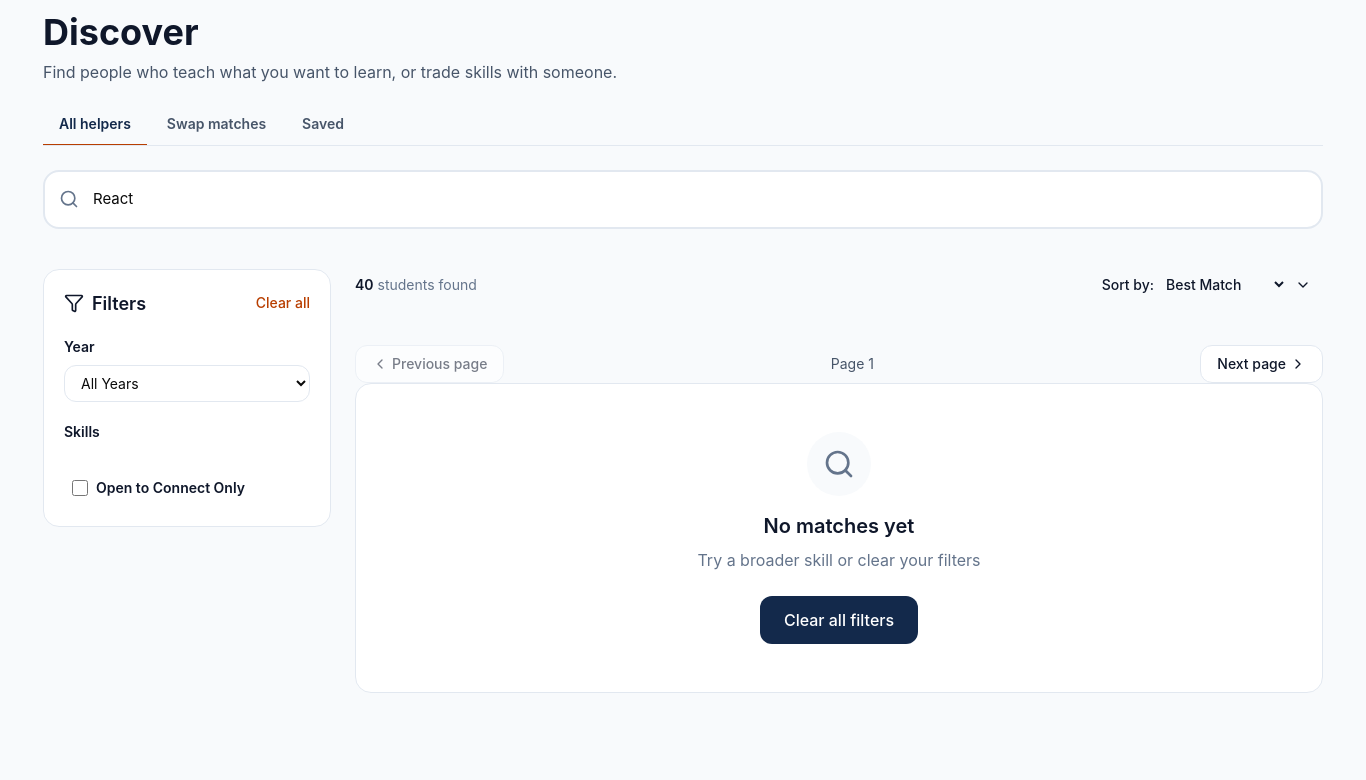
keeps the chosen page when the initial search debounce settles
Click the button "Next page". click: (1262, 364)
box: [1200,344,1323,382]
Wait 1000 ms
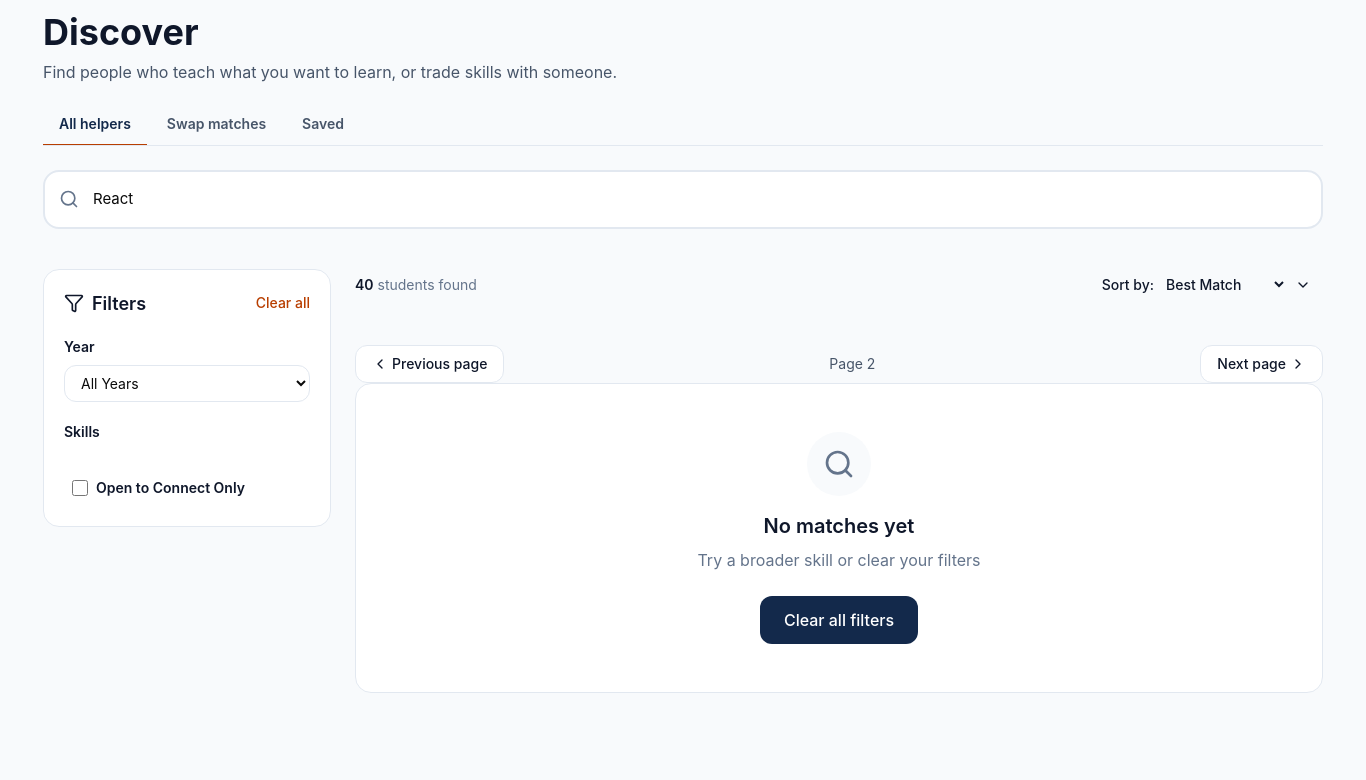
Check: the text "Page 2" is shown, box [829,354,875,374]
